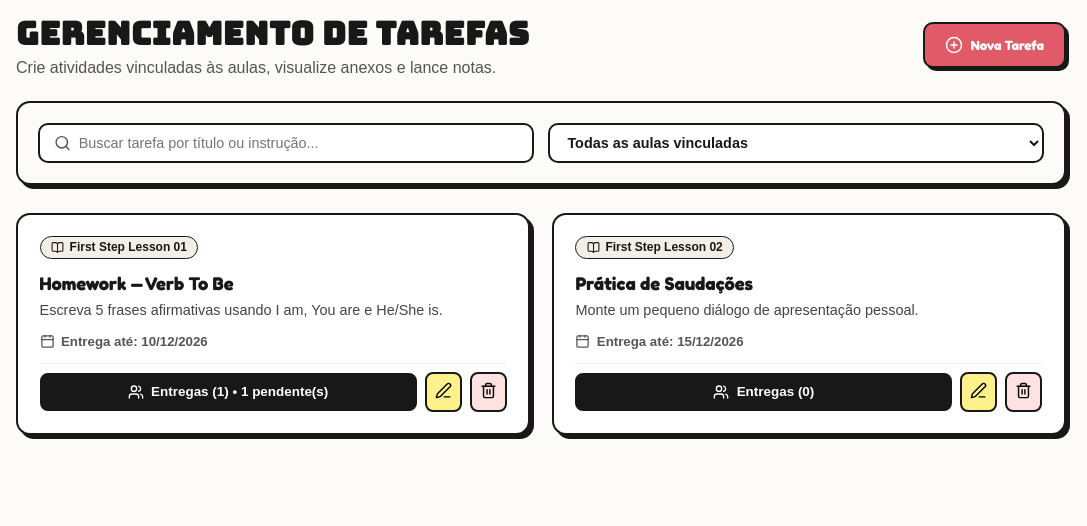
Página Assignments (CRUD Completo e Sistema de Avaliação) › CRUD Completo de Tarefas (Visão do Professor) › DELETE: deve excluir a tarefa após confirmação do professor
Expected: the heading "Homework — Verb To Be" is shown, 40,272 -> 234,294
Click the button titled "Excluir Tarefa" below "Homework — Verb To Be" at x=488, y=392, box 470,372 -> 507,412
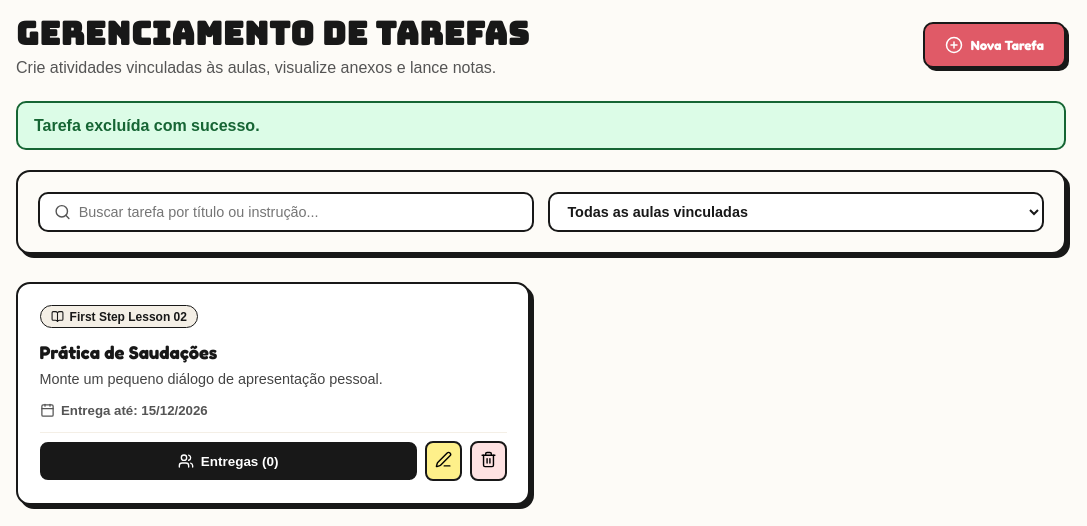
Now the text "Tarefa excluída com sucesso." is shown, box 16,101 -> 1066,150
Now the heading "Homework — Verb To Be" is gone
